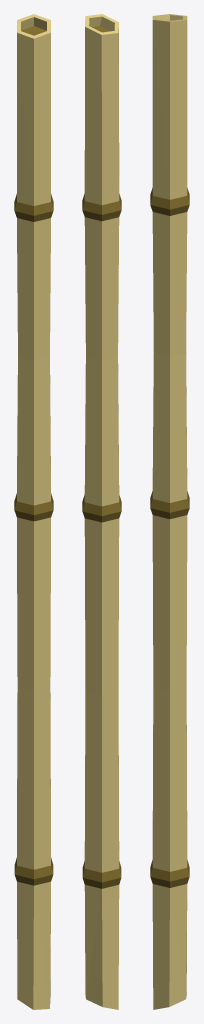
Rendered from Asian_Prop_Bamboo_Dried_Large_01.FBX.
3 renders of one model, left to right at view 1: azimuth 90°, elevation 25°; view 2: azimuth 150°, elevation 25°; view 3: azimuth 270°, elevation 25°, orthographic.
Visible parts, largest first — view 1: Asian_Prop_Bamboo_Dried_Large_01; view 2: Asian_Prop_Bamboo_Dried_Large_01; view 3: Asian_Prop_Bamboo_Dried_Large_01.
Part boxes in pixels (x1,y1,x2,y2): Asian_Prop_Bamboo_Dried_Large_01: (14,14,53,1009); Asian_Prop_Bamboo_Dried_Large_01: (82,14,121,1009); Asian_Prop_Bamboo_Dried_Large_01: (150,14,189,1009).
Bounding box in the file's own units: 82.08 × 1973 × 71.08.
